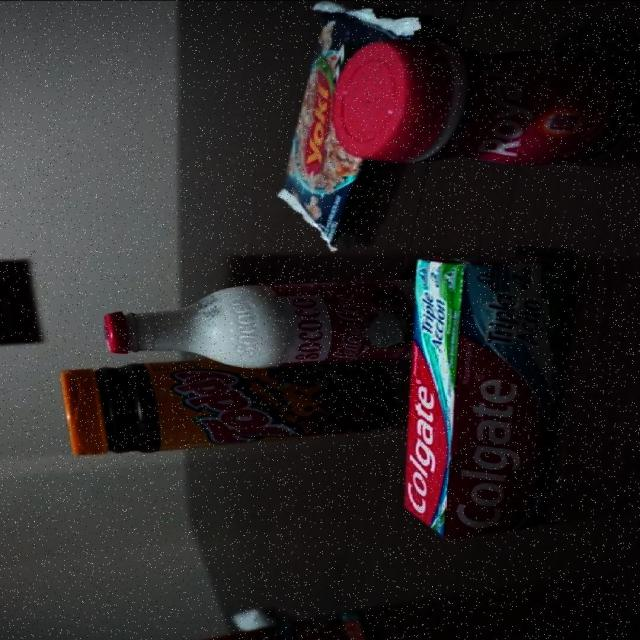ChocolatePowder: (59, 353, 393, 456)
CoconutMilk: (100, 273, 430, 370)
Popcorn: (275, 0, 424, 252)
Toothpaste: (398, 254, 582, 542)
Yeast: (330, 38, 630, 167)
